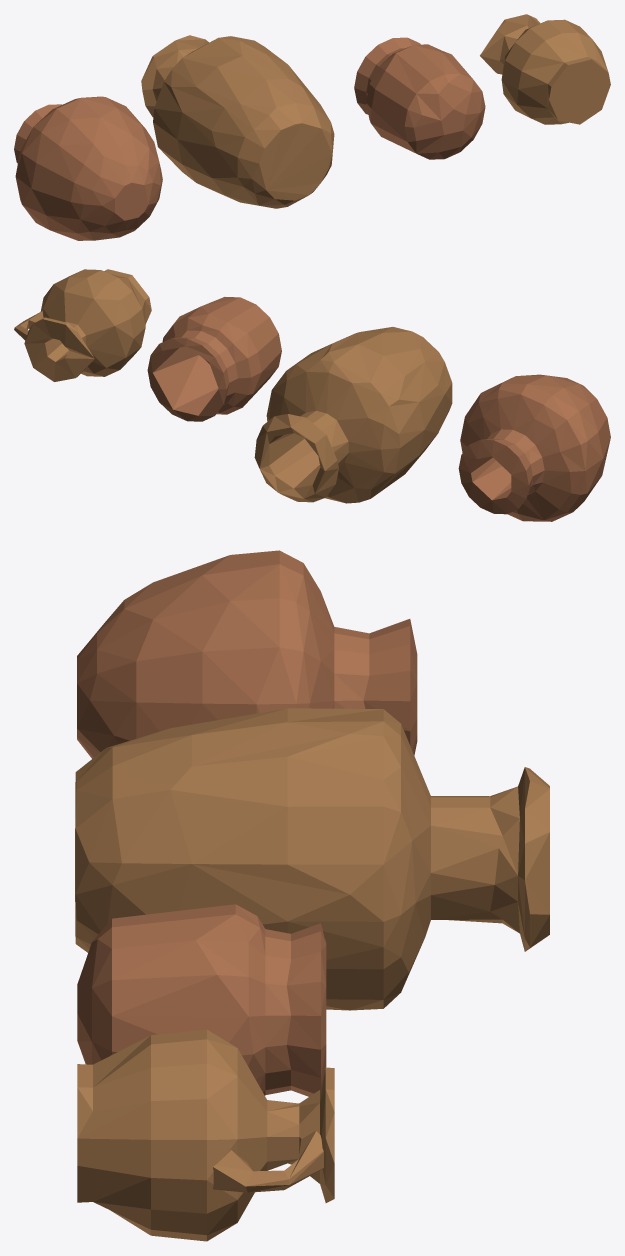
File: vat.FBX
3 views of the same model, one above another, from view 1: azimuth 30°, elevation 25°; view 2: azimuth 150°, elevation 25°; view 3: azimuth 270°, elevation 25° (orthographic). The views are drawn at different scales.
Visible parts, largest first — view 1: vat_three, vat_four, vat_two, vat_one; view 2: vat_three, vat_four, vat_two, vat_one; view 3: vat_three, vat_four, vat_one, vat_two.
Boxes of the visible parts, x1,y1,x2,y2 form: vat_three: (141,35,334,208); vat_four: (14,96,162,240); vat_two: (354,37,485,159); vat_one: (480,14,610,124); vat_three: (254,327,452,503); vat_four: (458,374,610,521); vat_two: (147,297,281,421); vat_one: (14,269,151,381); vat_three: (75,708,549,1010); vat_four: (77,550,417,758); vat_one: (77,1029,334,1241); vat_two: (77,904,326,1096).
Size of the model in its own units: 176 by 40.64 by 64.3.
